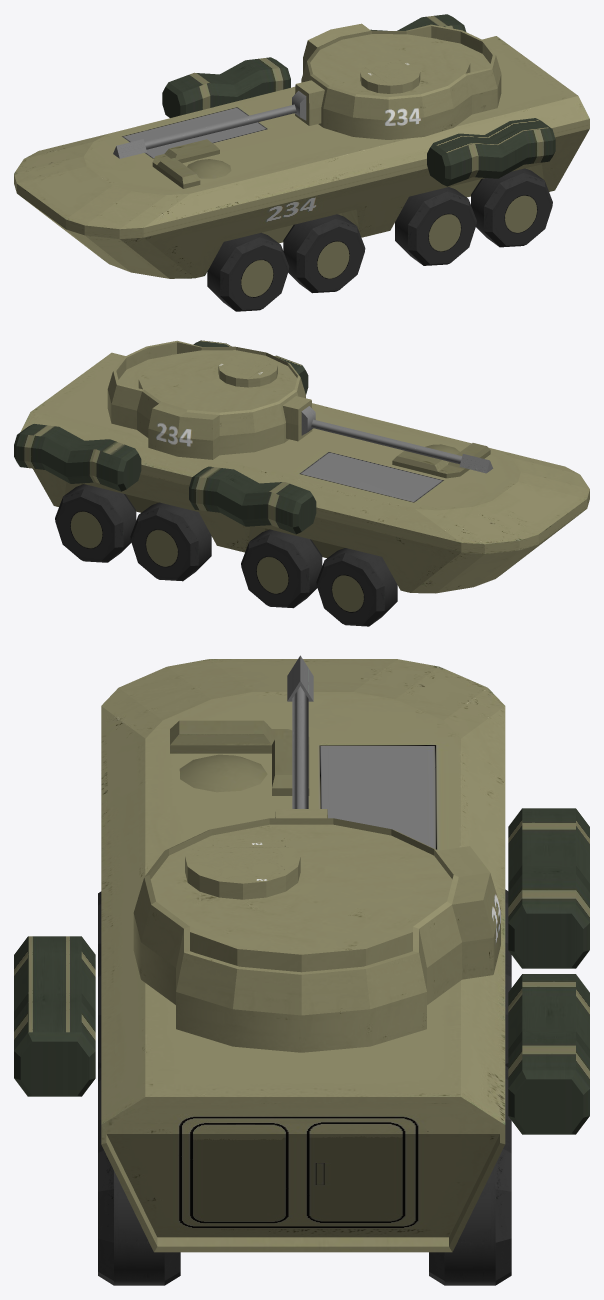
File: motopexota europa.fbx
The picture shows the model from 3 angles, top to bottom: view 1: azimuth 30°, elevation 25°; view 2: azimuth 150°, elevation 25°; view 3: azimuth 270°, elevation 25°; orthographic projection. The views are drawn at different scales.
Parts seen in each view (by area): view 1: Box002, Cylinder027, Cylinder037, Cylinder038, Cylinder039, Cylinder020, Cylinder029; view 2: Box002, Cylinder027, Cylinder042, Cylinder043, Cylinder041, Cylinder040, Cylinder029; view 3: Box002, Cylinder027, Cylinder043, Cylinder039, Cylinder029.
Boxes of the visible parts, x1,y1,x2,y2 form: Box002: [14, 14, 589, 278]; Cylinder027: [295, 23, 501, 139]; Cylinder037: [283, 214, 365, 293]; Cylinder038: [395, 187, 476, 265]; Cylinder039: [471, 168, 552, 247]; Cylinder020: [207, 232, 289, 311]; Cylinder029: [113, 91, 306, 158]; Box002: [14, 340, 589, 593]; Cylinder027: [107, 340, 312, 459]; Cylinder042: [130, 502, 211, 581]; Cylinder043: [55, 484, 136, 562]; Cylinder041: [241, 529, 322, 608]; Cylinder040: [316, 548, 397, 626]; Cylinder029: [301, 406, 493, 473]; Box002: [14, 659, 589, 1252]; Cylinder027: [133, 809, 500, 1052]; Cylinder043: [429, 1137, 511, 1285]; Cylinder039: [98, 1139, 180, 1285]; Cylinder029: [287, 655, 313, 808].
Bounding box in the file's own units: 77.86 × 25.92 × 40.67.
Materials: 4 (4 with a texture image).
